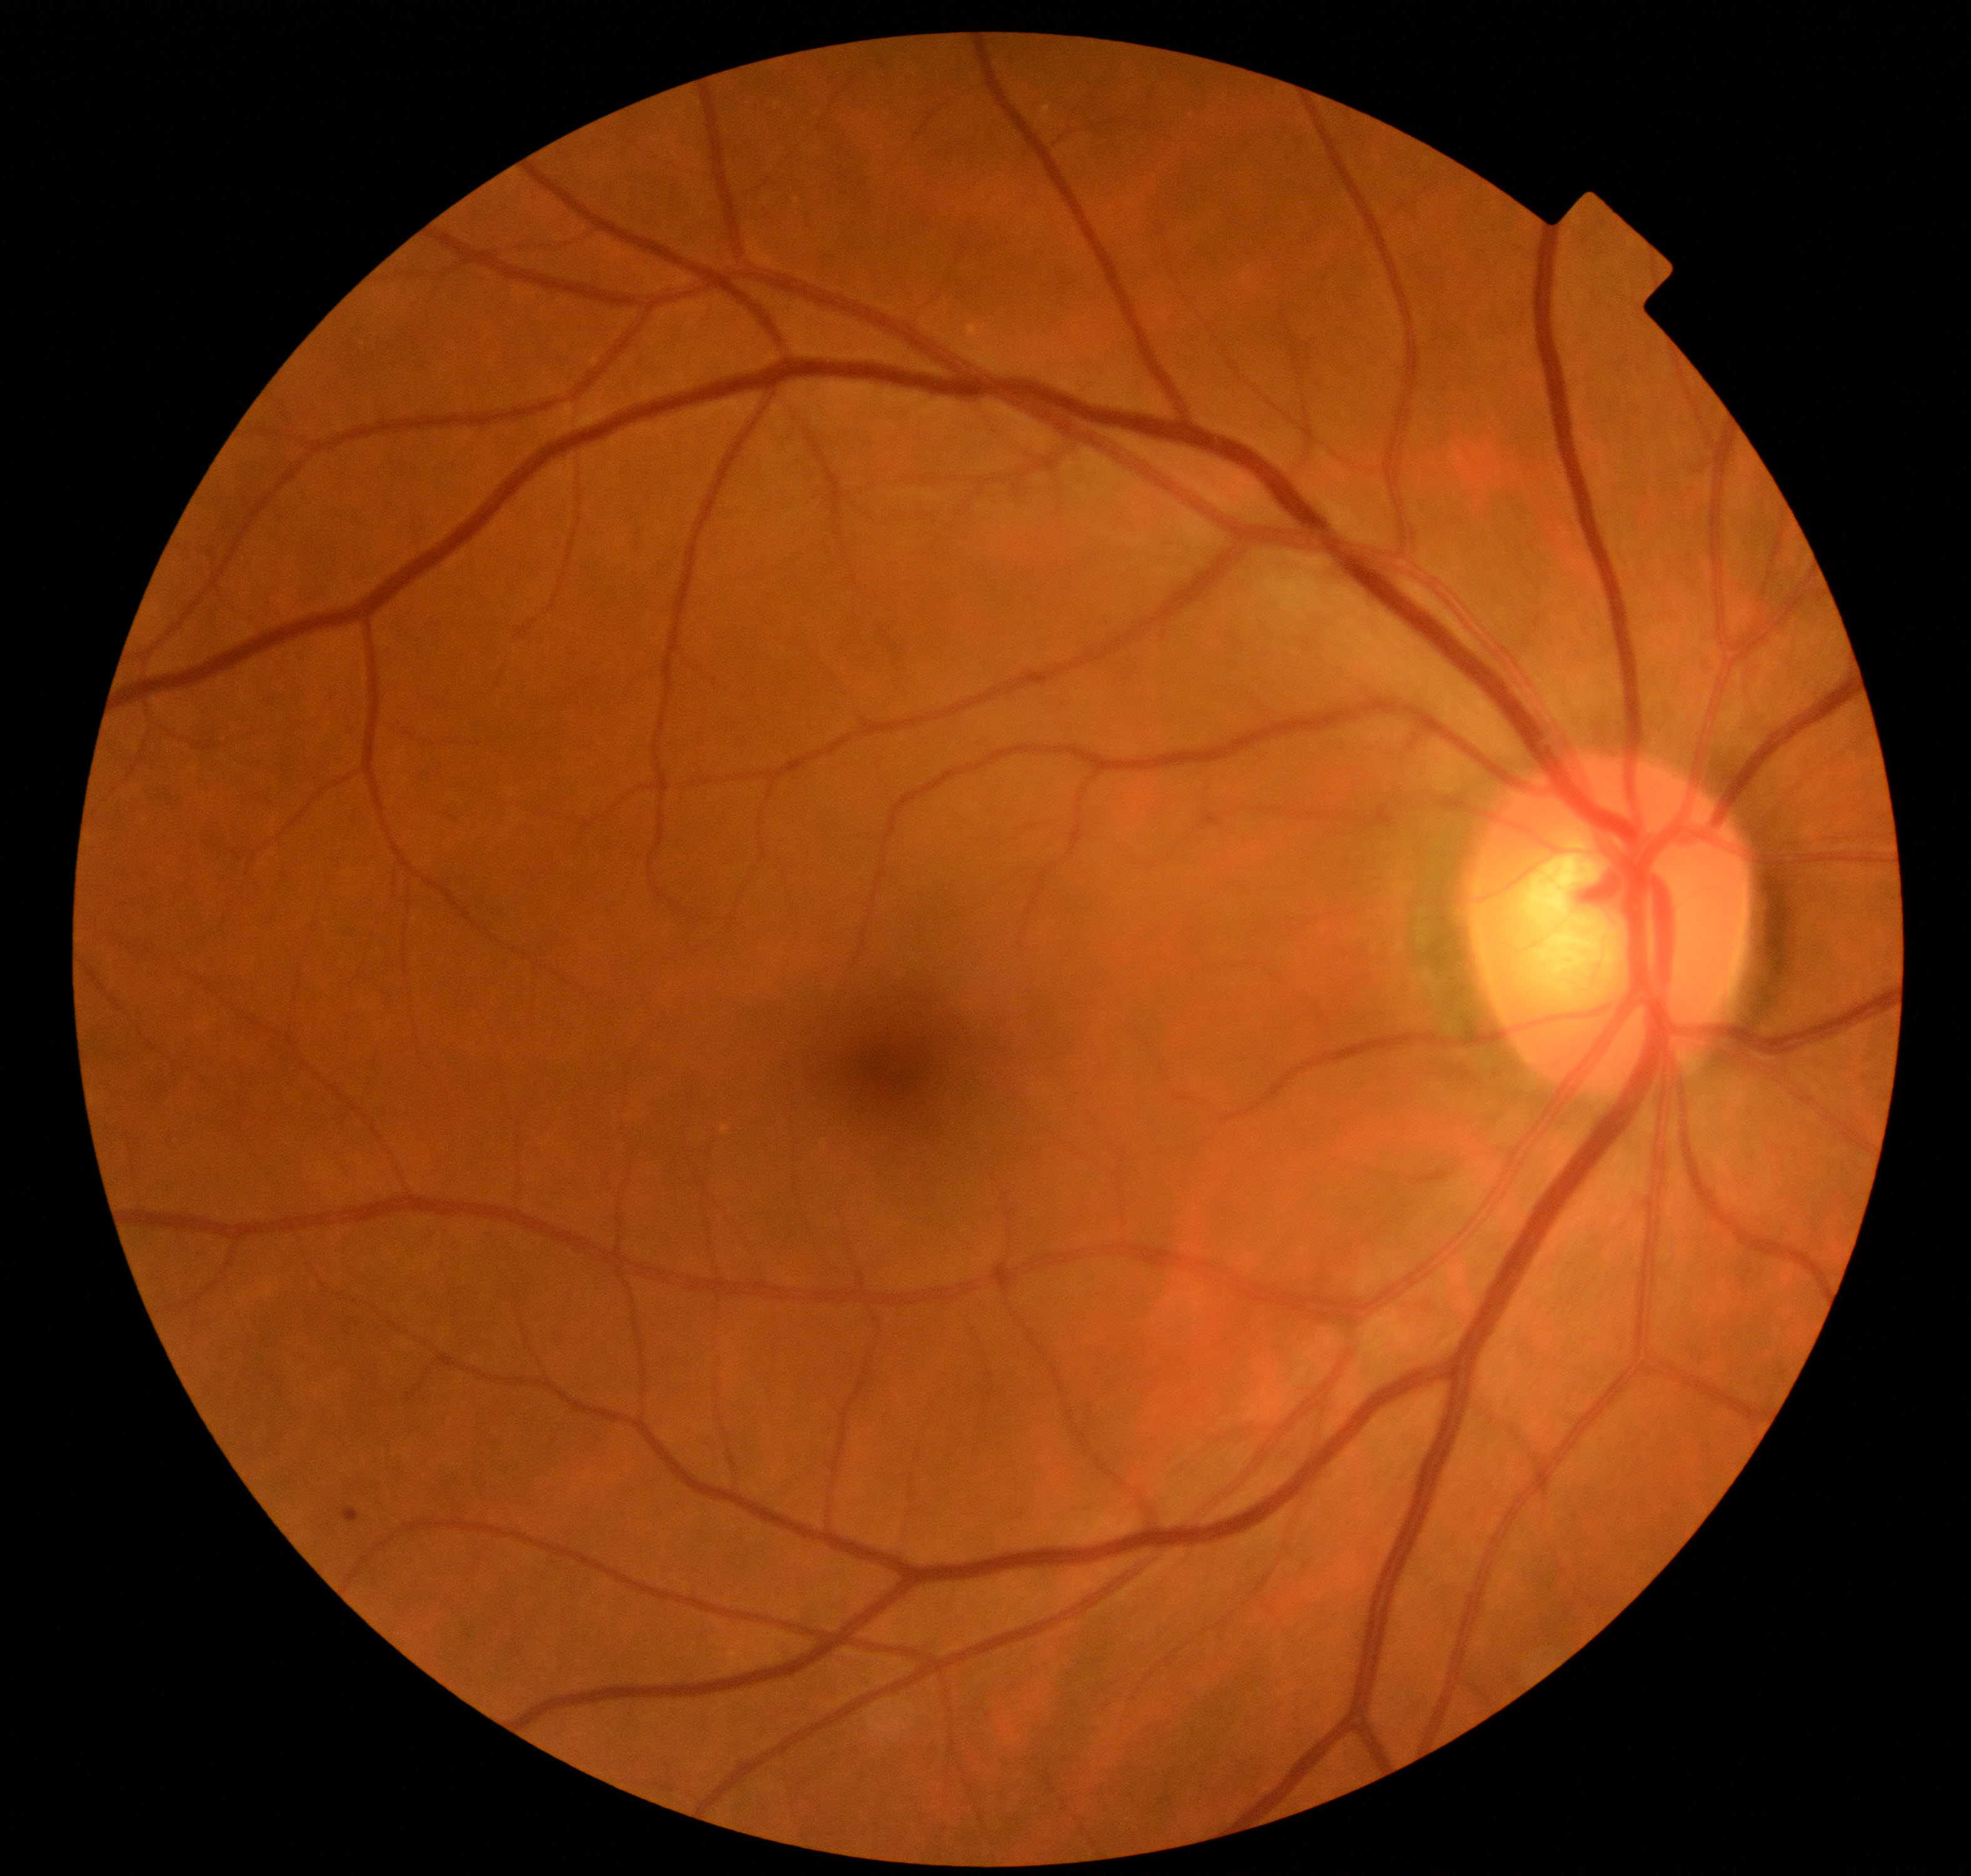Glaucoma section-1: (1515, 845, 1621, 1014)
Glaucoma section-2: (1455, 750, 1765, 1116)
